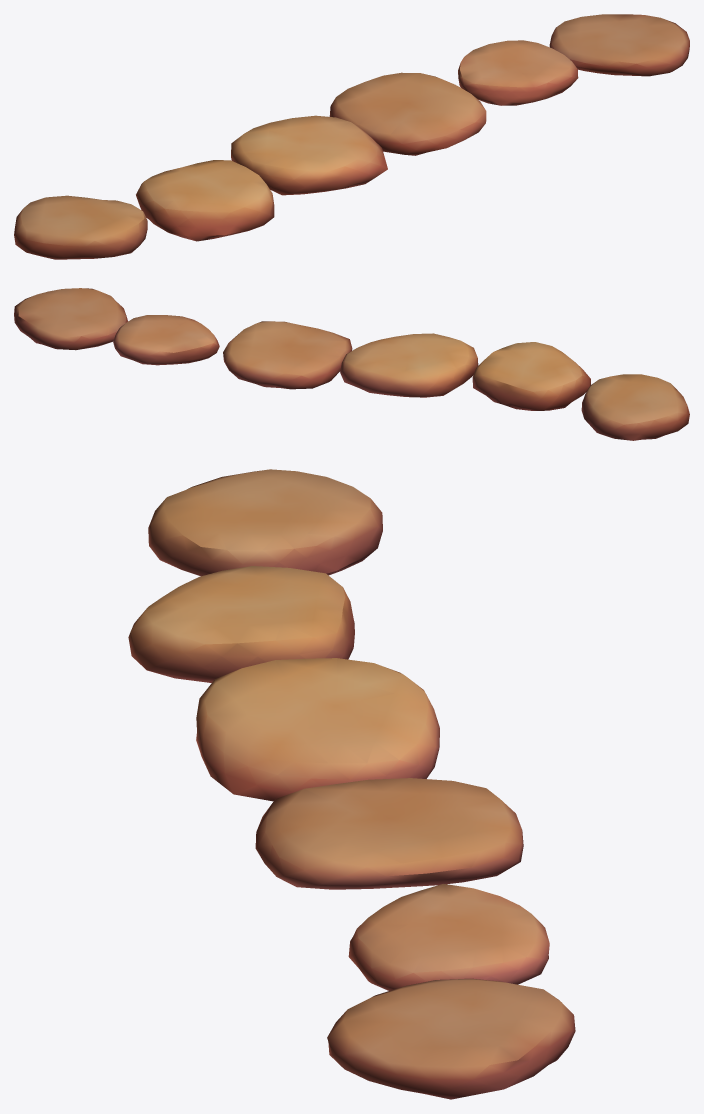
The model's file is amber_misc_stepping_stones_a.glb.
3 renders of one model, top to bottom at view 1: azimuth 30°, elevation 25°; view 2: azimuth 150°, elevation 25°; view 3: azimuth 270°, elevation 25°, orthographic. The views are drawn at different scales.
Visible parts, largest first — view 1: amber_misc_stepping_stones_a; view 2: amber_misc_stepping_stones_a; view 3: amber_misc_stepping_stones_a.
Part boxes in pixels (x1,y1,x2,y2): amber_misc_stepping_stones_a: (14, 14, 689, 259); amber_misc_stepping_stones_a: (14, 288, 689, 440); amber_misc_stepping_stones_a: (128, 469, 575, 1099).
Bounding box in the file's own units: 11.89 × 0.4992 × 3.72.
